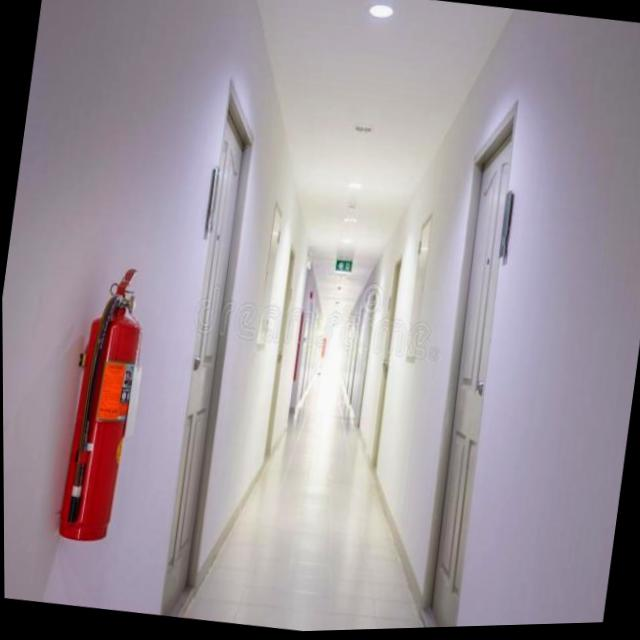FireExtinguisher: (46, 250, 158, 553)
